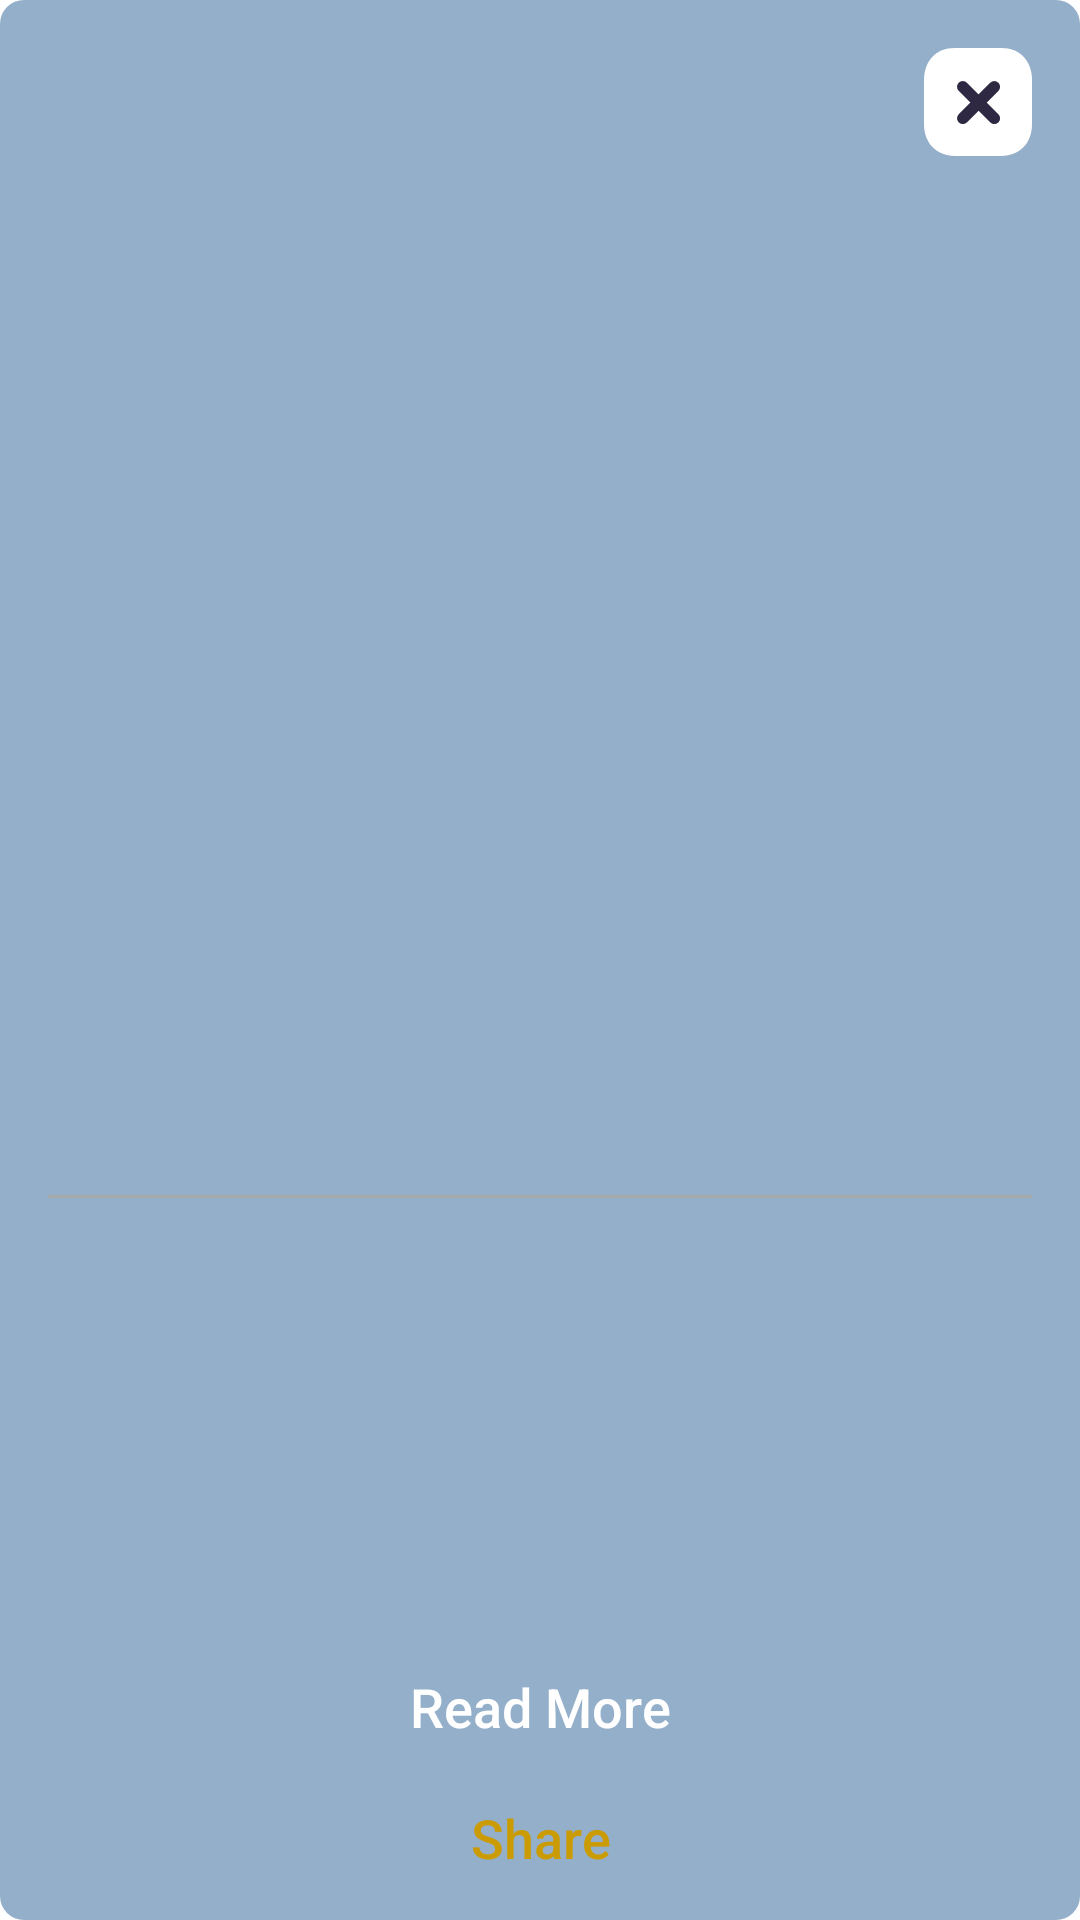

Icons on this 1080×1920 Android screen, each with the point to tap as (x=x, y=y):
close: (x=1002, y=78)
